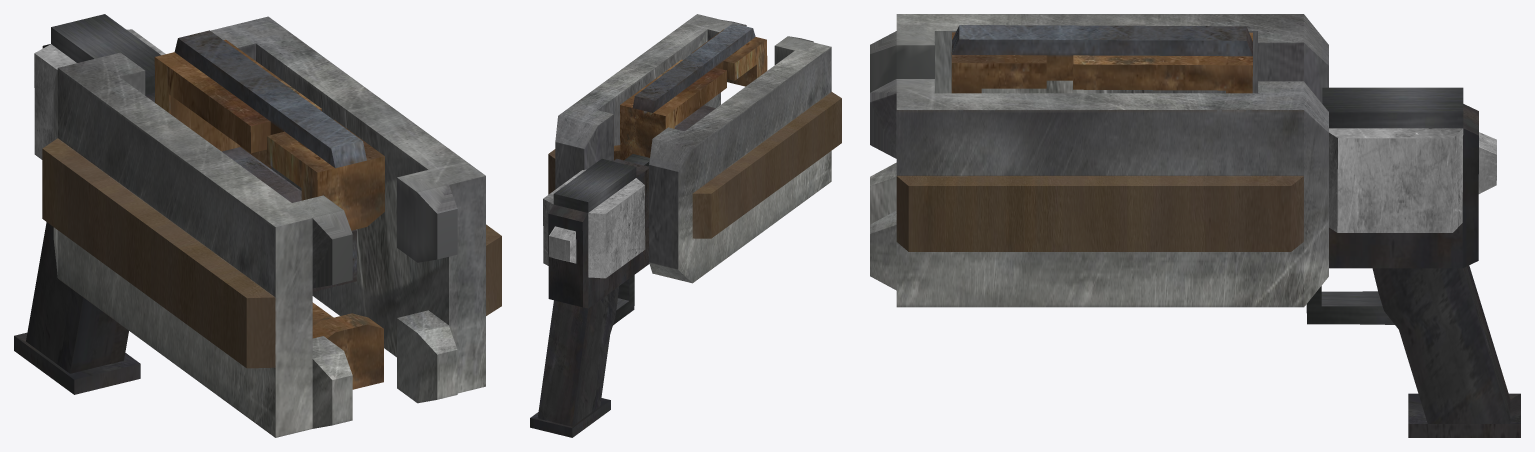
Rendered from pistol.fbx.
3 renders of one model, left to right at view 1: azimuth 30°, elevation 25°; view 2: azimuth 150°, elevation 25°; view 3: azimuth 270°, elevation 25°, orthographic. The views are drawn at different scales.
Parts seen in each view (by area): view 1: stock, pistol; view 2: stock, pistol; view 3: stock, pistol.
Boxes of the visible parts, x1,y1,x2,y2 form: stock: (42,16,501,437); pistol: (14,14,384,394); stock: (548,14,841,283); pistol: (530,23,767,437); stock: (870,14,1328,307); pistol: (951,25,1520,437).
Size of the model in its own units: 14.6 by 22.82 by 34.47.
